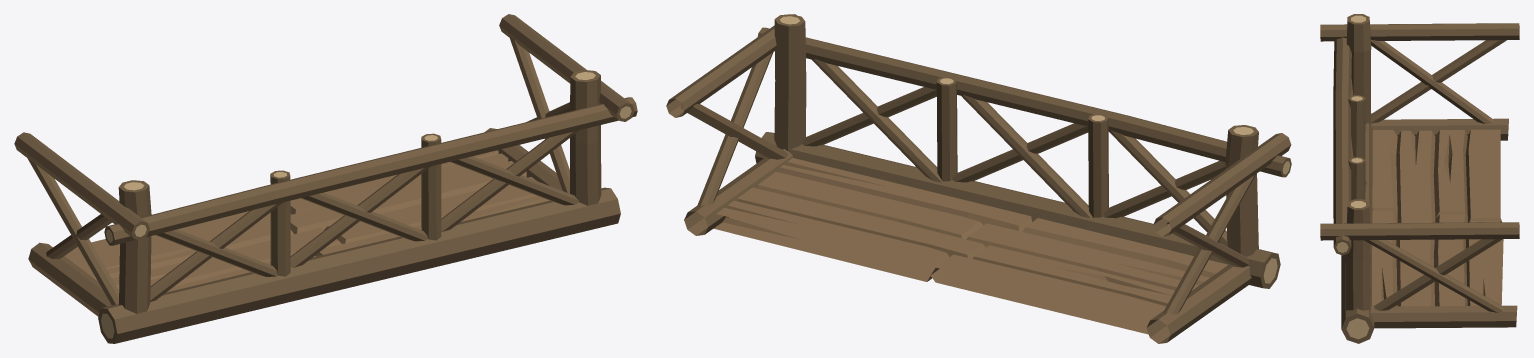
The model's file is rpgpp_st_balcony_01_6m.fbx.
The picture shows the model from 3 angles, left to right: view 1: azimuth 30°, elevation 25°; view 2: azimuth 150°, elevation 25°; view 3: azimuth 270°, elevation 25°; orthographic projection. The views are drawn at different scales.
Visible parts, largest first — view 1: rpgpp_st_balcony_01_6m; view 2: rpgpp_st_balcony_01_6m; view 3: rpgpp_st_balcony_01_6m.
Boxes of the visible parts, left/top/right/bottom form: rpgpp_st_balcony_01_6m: left=14, top=14, right=637, bottom=343; rpgpp_st_balcony_01_6m: left=666, top=14, right=1291, bottom=343; rpgpp_st_balcony_01_6m: left=1320, top=14, right=1519, bottom=343.
Size of the model in its own units: 6.13 by 1.72 by 2.41.
